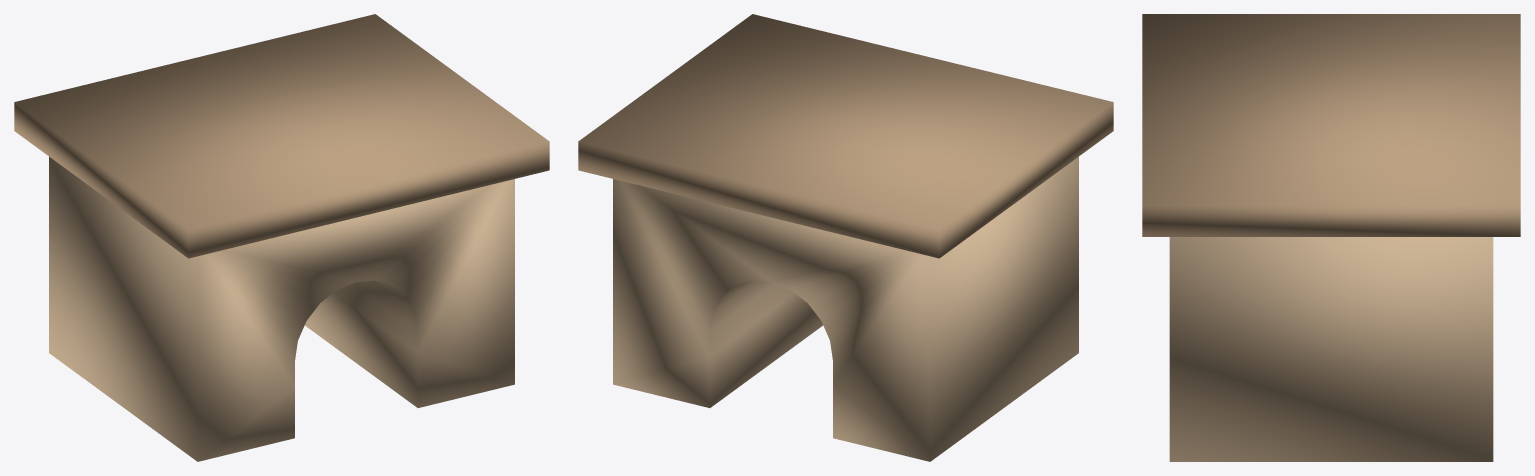
File: prop_hideout.glb
The picture shows the model from 3 angles, left to right: view 1: azimuth 30°, elevation 25°; view 2: azimuth 150°, elevation 25°; view 3: azimuth 270°, elevation 25°; orthographic projection. The views are drawn at different scales.
Visible parts, largest first — view 1: prop_hideout_body, prop_hideout_roof; view 2: prop_hideout_body, prop_hideout_roof; view 3: prop_hideout_roof, prop_hideout_body.
Part boxes in pixels (bbox=[...]): prop_hideout_body: bbox=[49, 156, 514, 461]; prop_hideout_roof: bbox=[14, 14, 549, 258]; prop_hideout_body: bbox=[613, 156, 1078, 461]; prop_hideout_roof: bbox=[578, 14, 1113, 258]; prop_hideout_roof: bbox=[1142, 14, 1520, 236]; prop_hideout_body: bbox=[1169, 237, 1493, 461].
Size of the model in its own units: 0.182 by 0.119 by 0.152.
